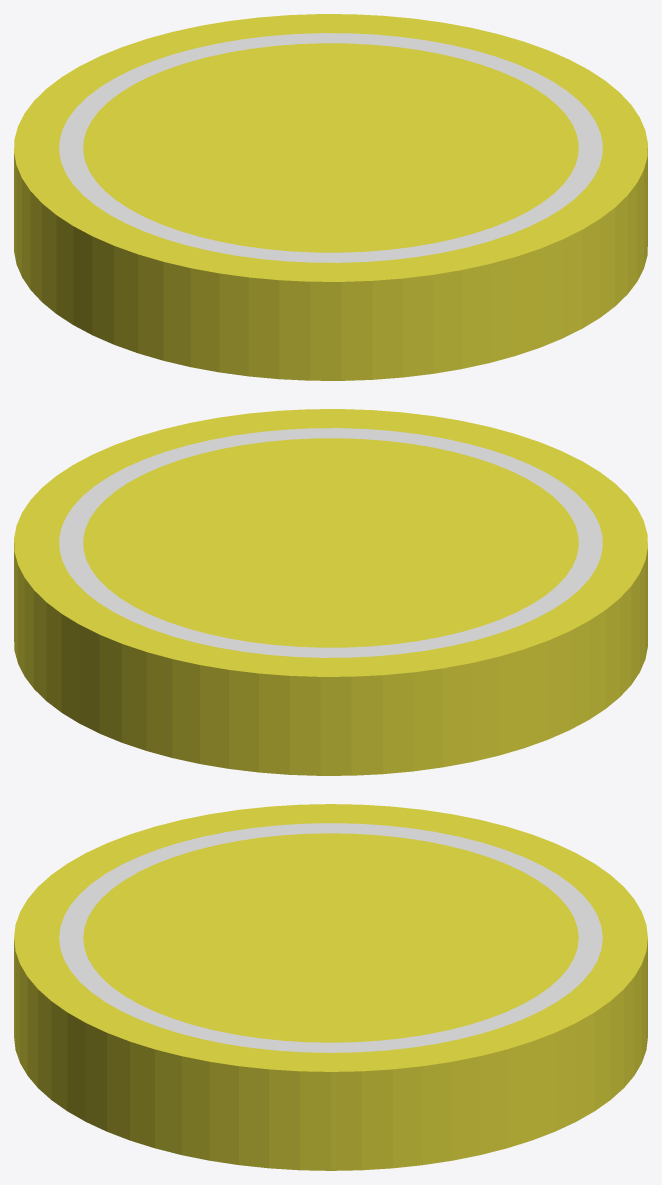
The model's file is player-base-button.fbx.
The picture shows the model from 3 angles, top to bottom: view 1: azimuth 30°, elevation 25°; view 2: azimuth 150°, elevation 25°; view 3: azimuth 270°, elevation 25°; orthographic projection.
Parts seen in each view (by area): view 1: Push; view 2: Push; view 3: Push.
Part boxes in pixels (<box>): Push: <box>14,14,647,380</box>; Push: <box>14,409,647,775</box>; Push: <box>14,804,647,1170</box>.
Bounding box in the file's own units: 360 × 62 × 360.
